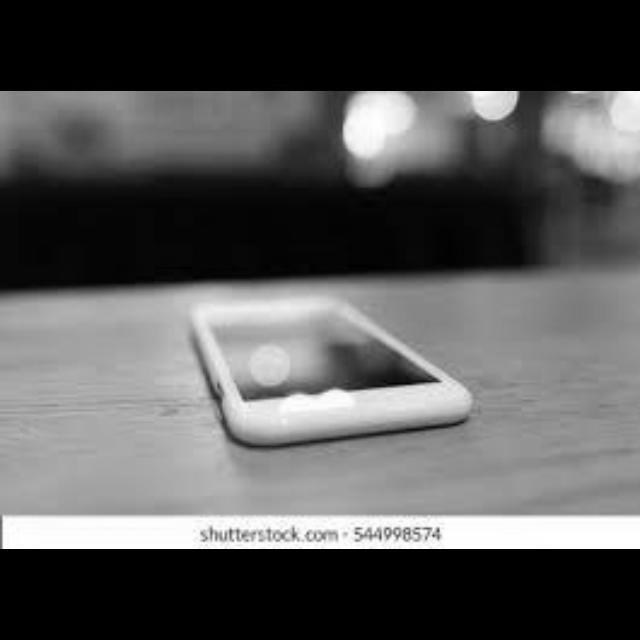fake: (156, 277, 502, 469)
